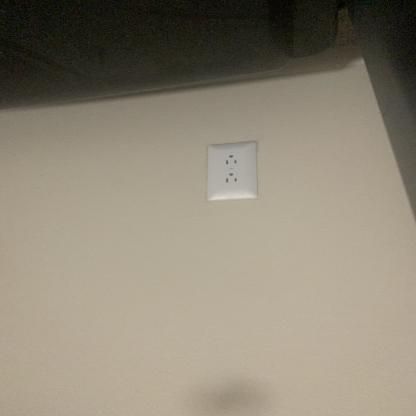OUTLET: (207, 142, 259, 201)
